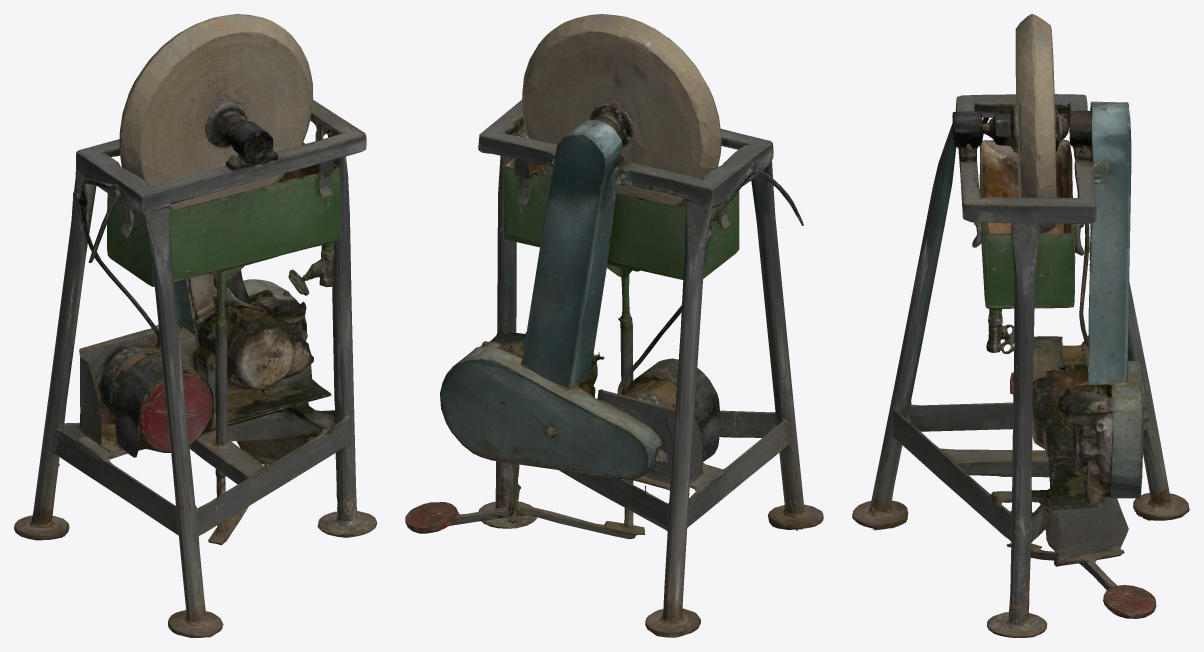
Rendered from 4FC68312-294A-C841-8DBE-B5C0DD6C8F26_512.glb.
The picture shows the model from 3 angles, left to right: view 1: azimuth 30°, elevation 25°; view 2: azimuth 150°, elevation 25°; view 3: azimuth 270°, elevation 25°; orthographic projection.
Parts seen in each view (by area): view 1: Schleifmaschine_47k_0.5k; view 2: Schleifmaschine_47k_0.5k; view 3: Schleifmaschine_47k_0.5k.
Boxes of the visible parts, bbox=[...] form: Schleifmaschine_47k_0.5k: bbox=[14, 14, 376, 637]; Schleifmaschine_47k_0.5k: bbox=[405, 14, 823, 637]; Schleifmaschine_47k_0.5k: bbox=[852, 14, 1189, 637].
Bounding box in the file's own units: 0.6431 × 1.02 × 0.5772.
Materials: 1 (1 with a texture image).
